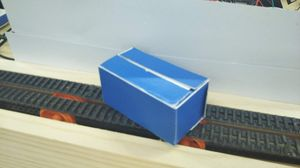box3: (96, 44, 209, 145)
